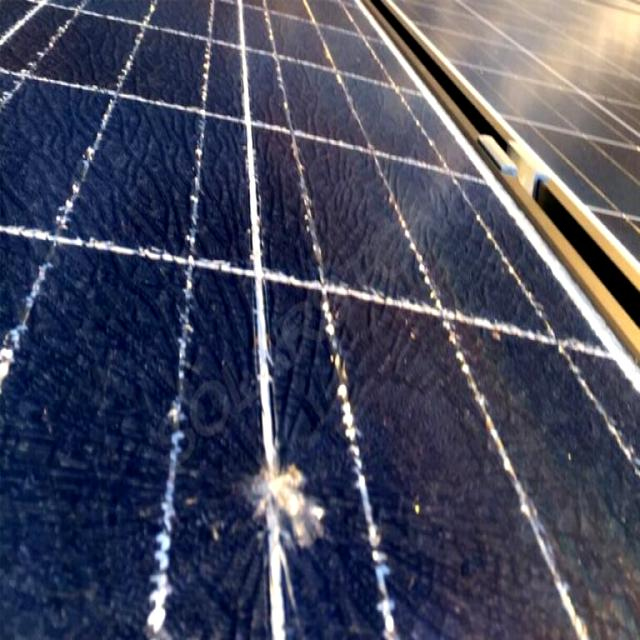hotspot: (218, 389, 372, 590), (0, 283, 30, 402)
